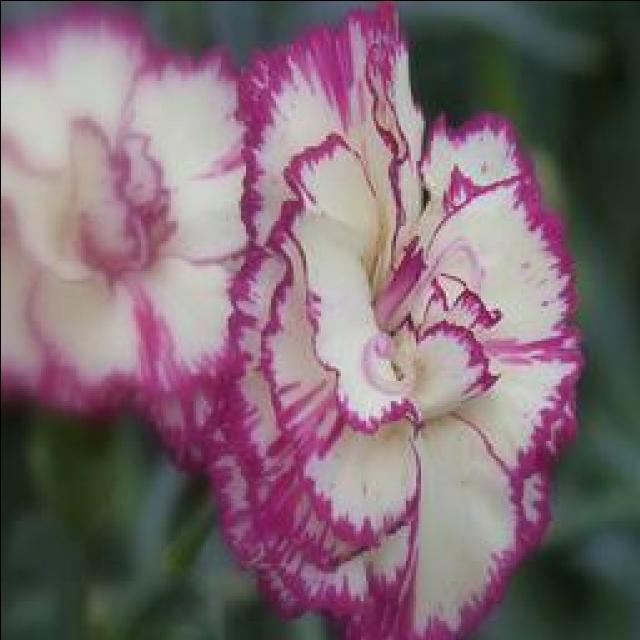carnation: (152, 6, 600, 640)
